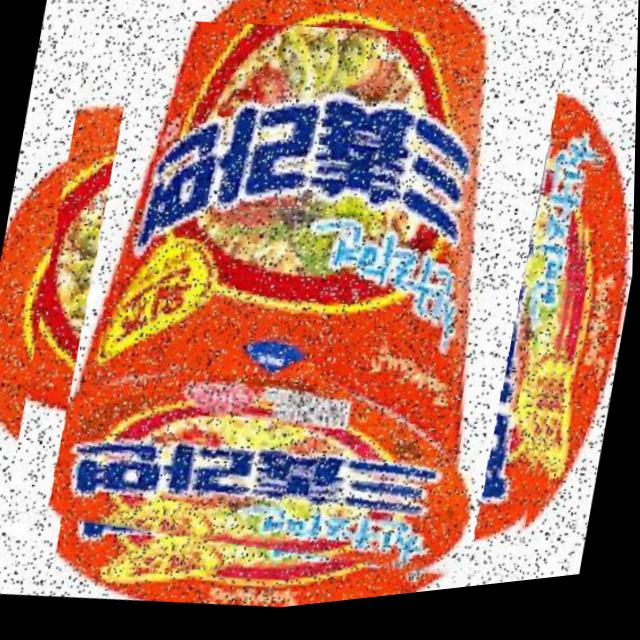Miscellaneous: (0, 0, 626, 639)
